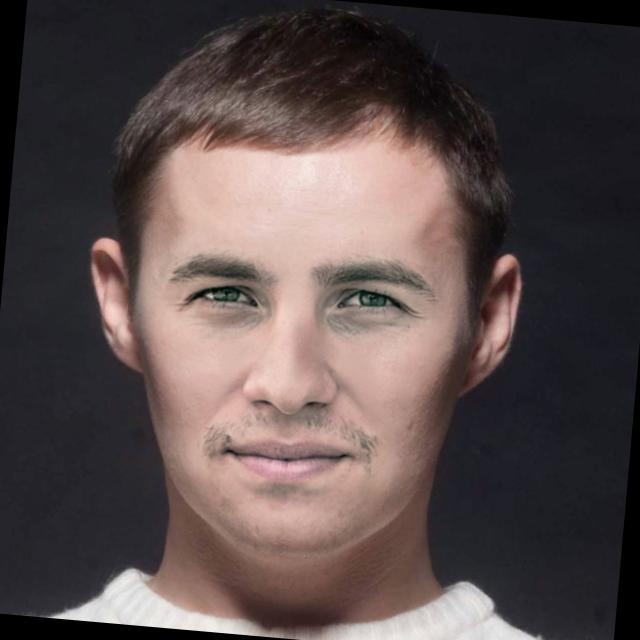face: (100, 113, 537, 584)
